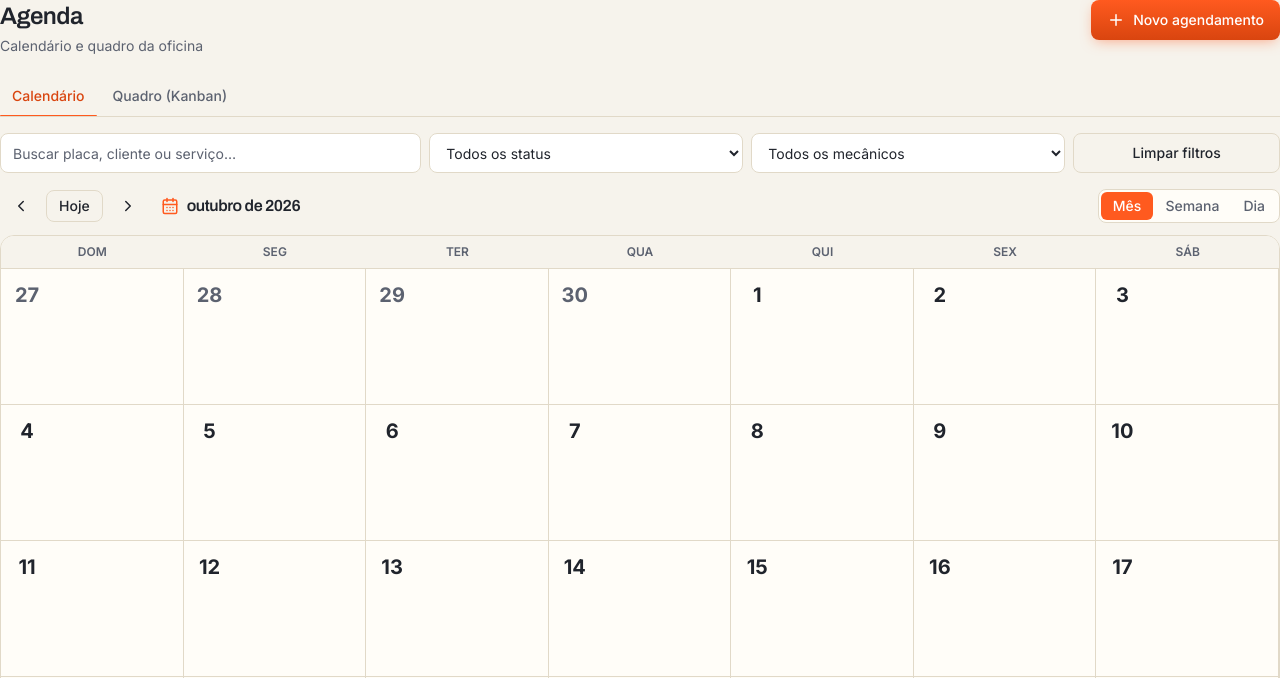
it: AgendaPage › quadro: Agendado, Na fila (inclui cliente sem agendamento), Aguardando peças — somente leitura
The image size is (1280, 678).
Click the button "Quadro (Kanban)" at (170, 96), box left=100, top=76, right=239, bottom=116
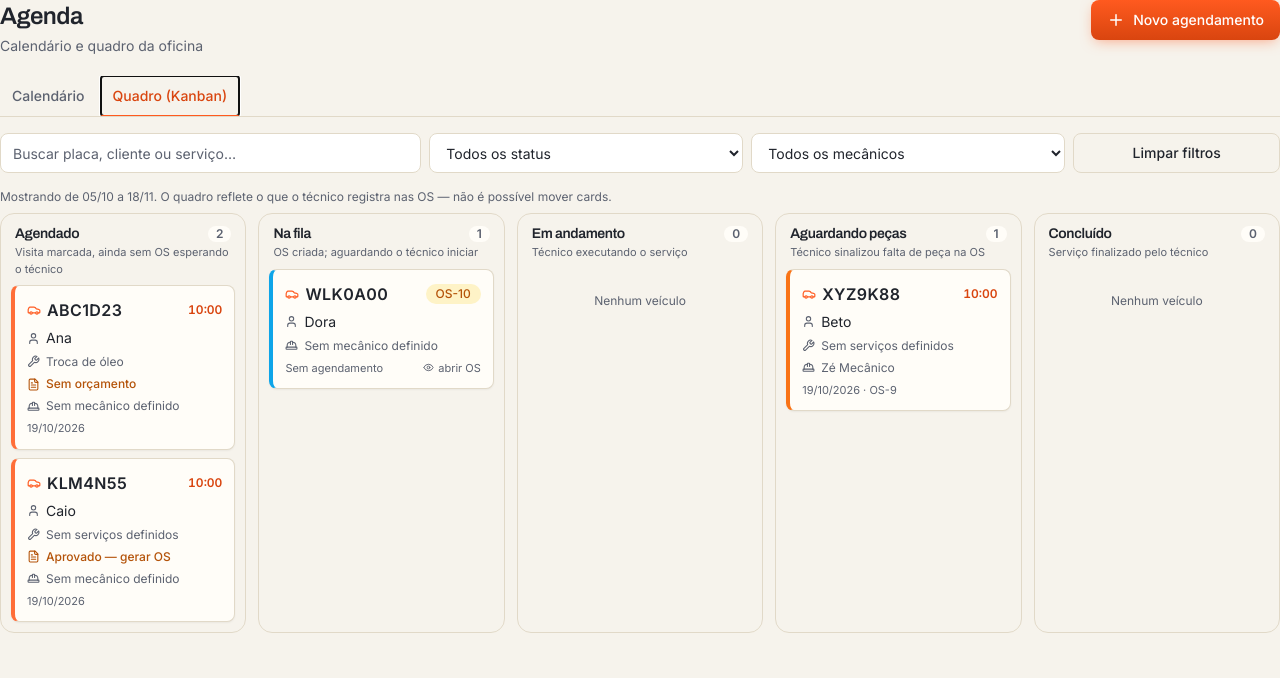
Expected: the text "ABC1D23" is shown, left=47, top=298, right=122, bottom=322
Result: the text "WLK0A00" is shown at left=305, top=282, right=388, bottom=306
Result: the text "Zé Mecânico" is shown at left=821, top=360, right=895, bottom=376
